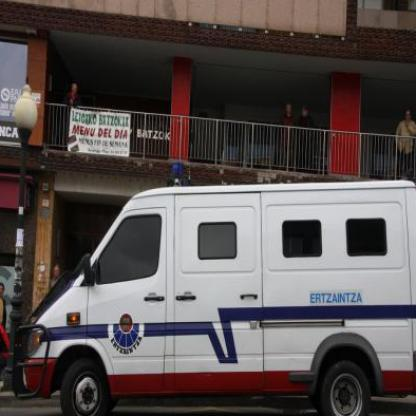truck: (10, 162, 416, 416)
